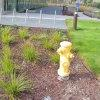a fire hydrant: (58, 38, 73, 77)
